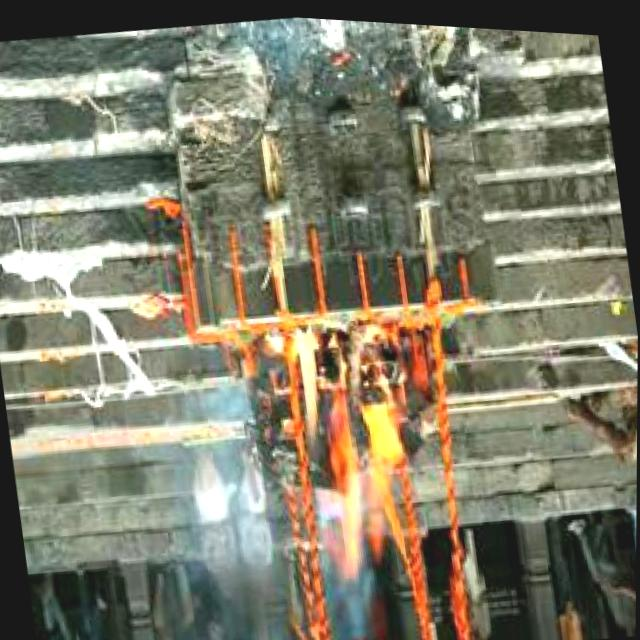helmet: (266, 313, 425, 575)
